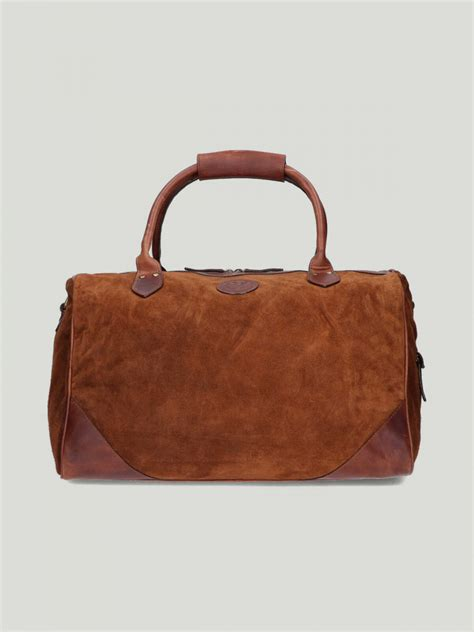gamuza: (46, 268, 422, 481)
